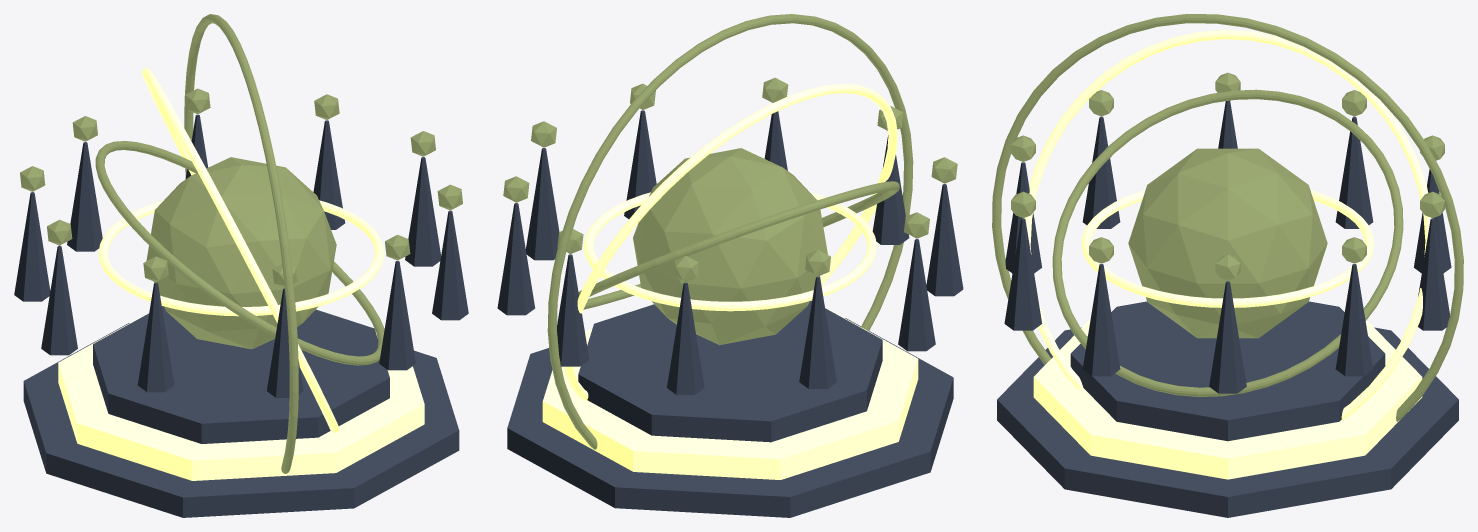
Rendered from gpu-blender-v25.glb.
3 renders of one model, left to right at view 1: azimuth 30°, elevation 25°; view 2: azimuth 150°, elevation 25°; view 3: azimuth 270°, elevation 25°, orthographic. The views are drawn at different scales.
Parts seen in each view (by area): view 1: Cylinder.002, SovereignCore_city-desk, Cylinder, Cylinder.001, Torus.003, Torus.001, Torus, Torus.002, Cone.006, Cone.009, Cone.005, Cone.008 (+12 smaller); view 2: Cylinder.002, SovereignCore_city-desk, Cylinder, Cylinder.001, Torus.003, Torus.002, Torus, Torus.001, Cone.005, Cone.001, Cone.006, Cone.003 (+12 smaller); view 3: SovereignCore_city-desk, Cylinder.002, Cylinder, Cylinder.001, Torus.003, Torus.001, Torus.002, Torus, Cone.001, Cone.009, Cone, Cone.008 (+7 smaller).
Boxes of the visible parts, <box> form: Cylinder.002: <box>93,306,389,443</box>; SovereignCore_city-desk: <box>146,157,336,349</box>; Cylinder: <box>23,323,459,517</box>; Cylinder.001: <box>58,314,424,480</box>; Torus.003: <box>184,14,298,473</box>; Torus.001: <box>95,141,384,365</box>; Torus: <box>98,200,384,316</box>; Torus.002: <box>142,68,339,432</box>; Cone.006: <box>137,282,174,392</box>; Cone.009: <box>432,210,468,320</box>; Cone.005: <box>41,245,77,355</box>; Cone.008: <box>379,261,415,370</box>; Cylinder.002: <box>578,300,882,442</box>; SovereignCore_city-desk: <box>633,148,827,345</box>; Cylinder: <box>507,318,953,517</box>; Cylinder.001: <box>542,308,918,479</box>; Torus.003: <box>547,14,913,449</box>; Torus.002: <box>564,83,897,400</box>; Torus: <box>584,192,876,311</box>; Torus.001: <box>578,181,899,309</box>; Cone.005: <box>898,239,935,351</box>; Cone.001: <box>497,203,535,315</box>; Cone.006: <box>926,184,963,296</box>; Cone.003: <box>667,282,704,394</box>; SovereignCore_city-desk: <box>1128,148,1327,338</box>; Cylinder.002: <box>1070,301,1385,441</box>; Cylinder: <box>997,327,1458,517</box>; Cylinder.001: <box>1033,319,1422,479</box>; Torus.003: <box>992,14,1463,421</box>; Torus.001: <box>1052,89,1403,396</box>; Torus.002: <box>1024,30,1431,420</box>; Torus: <box>1081,190,1374,307</box>; Cone.001: <box>1335,264,1373,376</box>; Cone.009: <box>1082,264,1120,376</box>; Cone: <box>1209,281,1246,393</box>; Cone.008: <box>1004,218,1042,330</box>.
Bounding box in the file's own units: 4.41 × 4.7 × 4.49.
